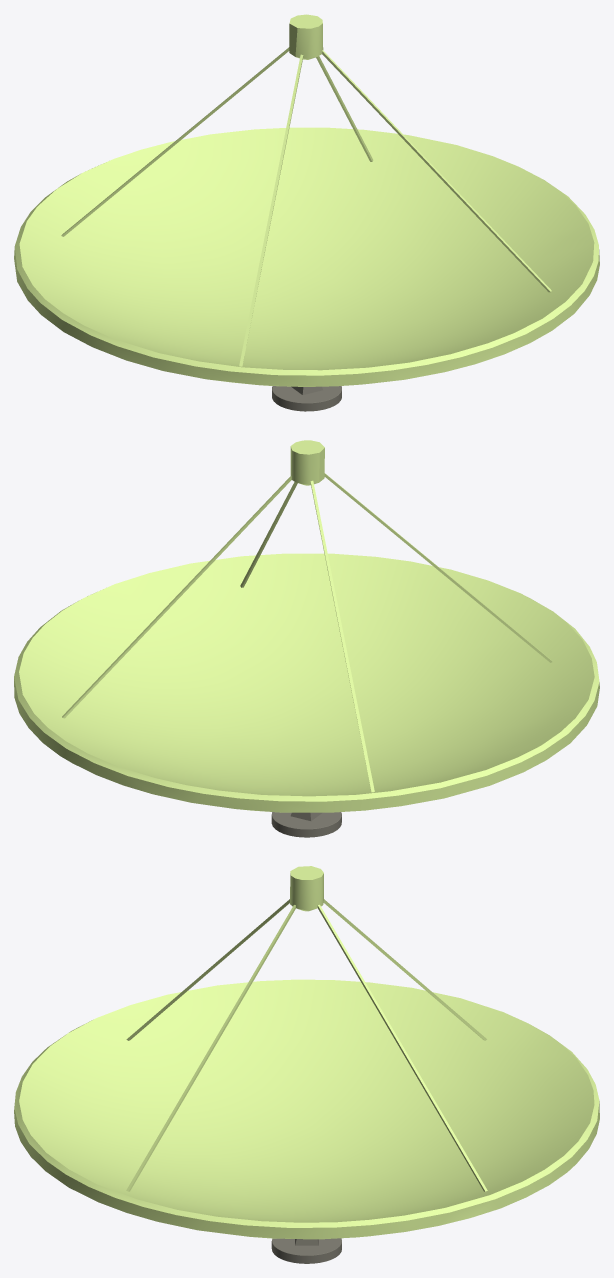
File: Radio_Dish_Satellites.glb
The picture shows the model from 3 angles, top to bottom: view 1: azimuth 30°, elevation 25°; view 2: azimuth 150°, elevation 25°; view 3: azimuth 270°, elevation 25°; orthographic projection.
Visible parts, largest first — view 1: SatelliteDish_LOD0, Satellite-Dish-Base_LOD0; view 2: SatelliteDish_LOD0, Satellite-Dish-Base_LOD0; view 3: SatelliteDish_LOD0, Satellite-Dish-Base_LOD0.
Boxes of the visible parts, box(x1,y1,x2,y2) form: SatelliteDish_LOD0: box(14, 14, 599, 386); Satellite-Dish-Base_LOD0: box(272, 386, 341, 411); SatelliteDish_LOD0: box(14, 440, 599, 812); Satellite-Dish-Base_LOD0: box(271, 812, 341, 837); SatelliteDish_LOD0: box(14, 866, 599, 1239); Satellite-Dish-Base_LOD0: box(271, 1238, 341, 1263).
Size of what is drawn, in the model's own units: 1.5 by 1.06 by 1.5.
